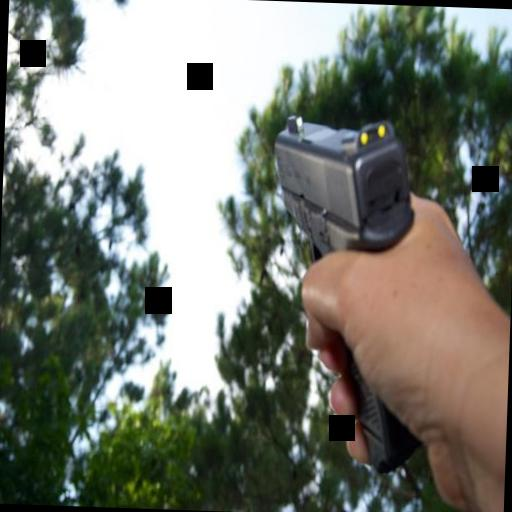Handgun: (258, 94, 436, 475)
